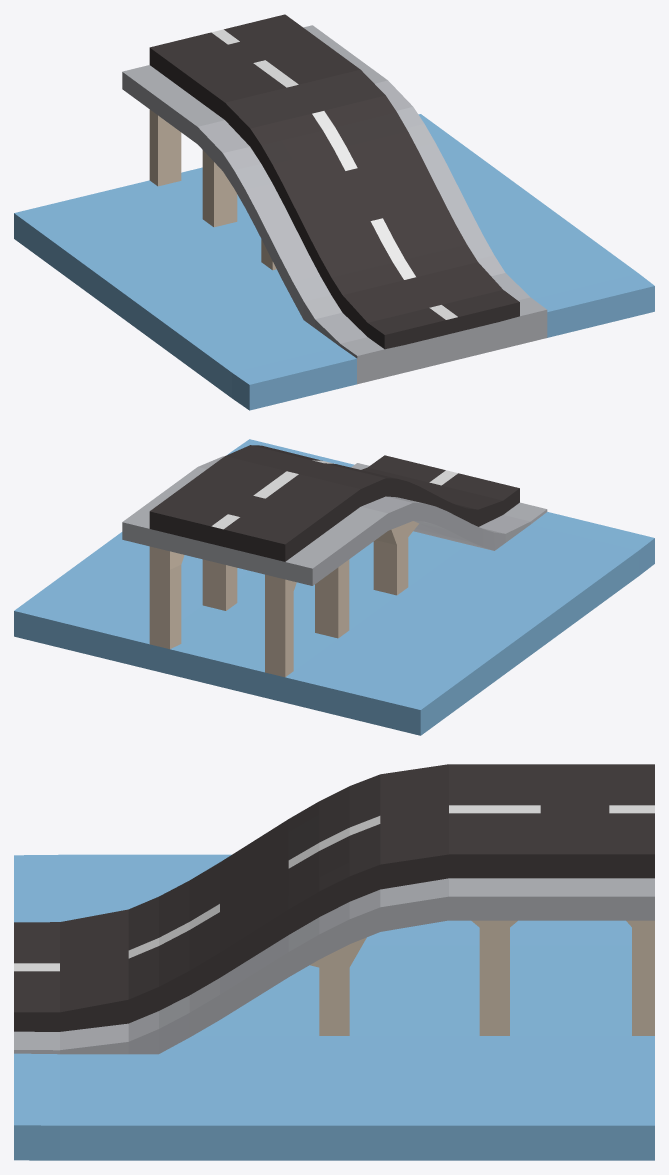
File: Street_Bridge_WaterRamp.fbx
The picture shows the model from 3 angles, top to bottom: view 1: azimuth 30°, elevation 25°; view 2: azimuth 150°, elevation 25°; view 3: azimuth 270°, elevation 25°; orthographic projection. The views are drawn at different scales.
Visible parts, largest first — view 1: Street_Ramp_Water; view 2: Street_Ramp_Water; view 3: Street_Ramp_Water.
Boxes of the visible parts, x1=… form: Street_Ramp_Water: x1=14, y1=14, x2=654, y2=410; Street_Ramp_Water: x1=14, y1=439, x2=654, y2=735; Street_Ramp_Water: x1=14, y1=764, x2=654, y2=1160.
Size of the model in its own units: 200 by 74.38 by 200.
